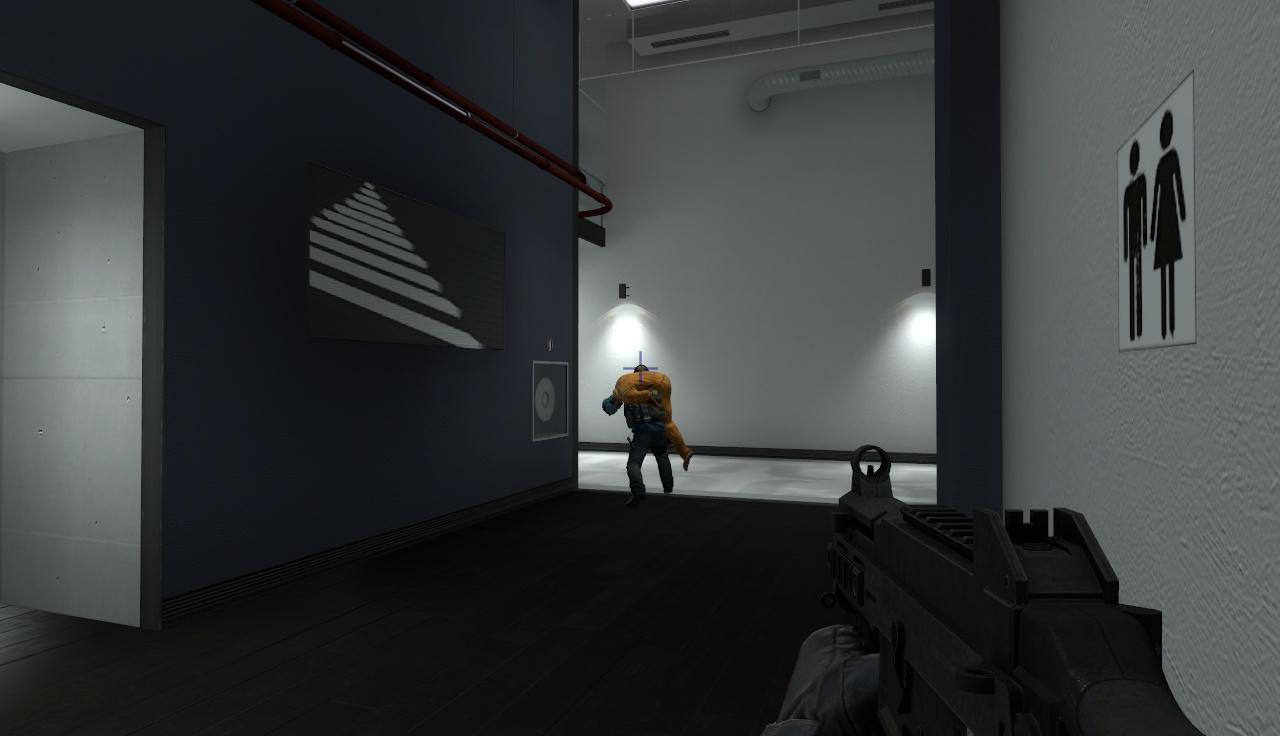ct: (619, 363, 668, 507)
rifle: (822, 424, 1243, 736)
